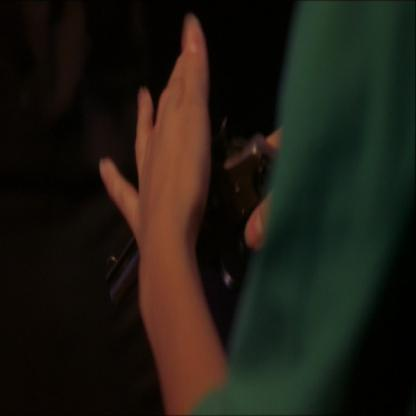Guns: (102, 117, 281, 321)
